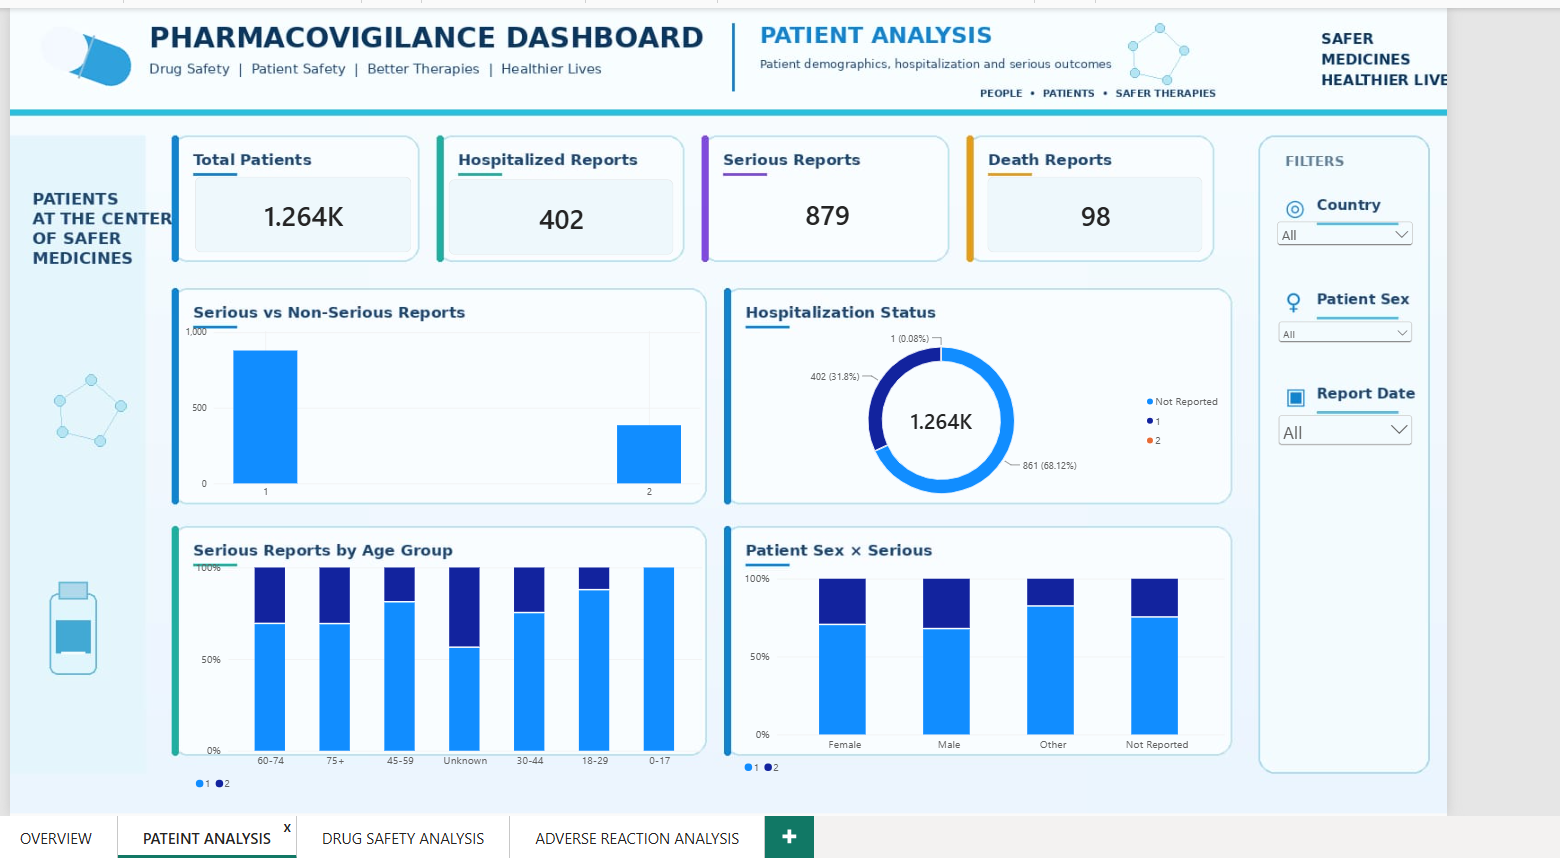

The dashboard page shown, as its layout file describes it:
{"tool":"powerbi","page":{"name":"PATEINT ANALYSIS","canvas":[1920,1080],"ordinal":1},"visuals":[{"type":"cardVisual","title":"Total Patients","fields":{"Data":["CountNonNull(Reports.report_id)"]},"box":[246.7,225.1,290,101.7],"z":0},{"type":"cardVisual","title":"Total Patients","fields":{"Data":["Reports.Hospitalized Reports"]},"box":[586.5,229.4,300.8,101.7],"z":1000},{"type":"card","title":"Total Patients","fields":{"Values":["Reports.Serious Reports 1"]},"box":[939.2,225.1,307.3,101.7],"z":2000},{"type":"cardVisual","title":"Total Patients","fields":{"Data":["Reports.Death Reports"]},"box":[1305,225.1,287.8,101.7],"z":3000},{"type":"donutChart","title":"Hospitalization Status","fields":{"Category":["Reports.hospitalization"],"Y":["Count(Reports.report_id)"]},"box":[971.8,423.5,651.5,253.4],"z":4000},{"type":"clusteredColumnChart","title":"Serious vs Non-Serious Reports","fields":{"Category":["Reports.serious"],"Y":["Count(Reports.report_id)"]},"box":[233.7,424.2,688.2,235.9],"z":5000},{"type":"hundredPercentStackedColumnChart","title":"Serious Reports by Age Group","fields":{"Category":["Reports.Age Group"],"Series":["Reports.serious"],"Y":["Count(Reports.report_id)"]},"box":[246.7,735.8,677.4,313.8],"z":6000},{"type":"hundredPercentStackedColumnChart","fields":{"Category":["Reports.Patient Sex Label"],"Series":["Reports.serious"],"Y":["Count(Reports.report_id)"]},"box":[980.4,751,642.8,277],"z":7000},{"type":"slicer","title":"Country","fields":{"Values":["Reports.Country Full"]},"box":[1688,281.3,190.4,95.2],"z":8000},{"type":"slicer","title":"Patient Sex","fields":{"Values":["Reports.Patient Sex Label"]},"box":[1690.2,413.4,188.3,86.6],"z":9000},{"type":"slicer","title":"Report Date","fields":{"Values":["Reports.Report Date"]},"box":[1690.2,538.9,188.2,465.1],"z":10000}]}

Visuals, with their boxes on the page's 1920x1080 design canvas (x1, y1, x2, y2). These are canvas units, not pixel positions in the 1560x858 screenshot, which may show the page scaled, cropped or inside an application window:
"Total Patients" cardVisual: (247,225,537,327)
"Total Patients" cardVisual: (586,229,887,331)
"Total Patients" card: (939,225,1246,327)
"Total Patients" cardVisual: (1305,225,1593,327)
"Hospitalization Status" donutChart: (972,424,1623,677)
"Serious vs Non-Serious Reports" clusteredColumnChart: (234,424,922,660)
"Serious Reports by Age Group" hundredPercentStackedColumnChart: (247,736,924,1050)
hundredPercentStackedColumnChart - Reports.Patient Sex Label x Reports.serious: (980,751,1623,1028)
"Country" slicer: (1688,281,1878,376)
"Patient Sex" slicer: (1690,413,1878,500)
"Report Date" slicer: (1690,539,1878,1004)
